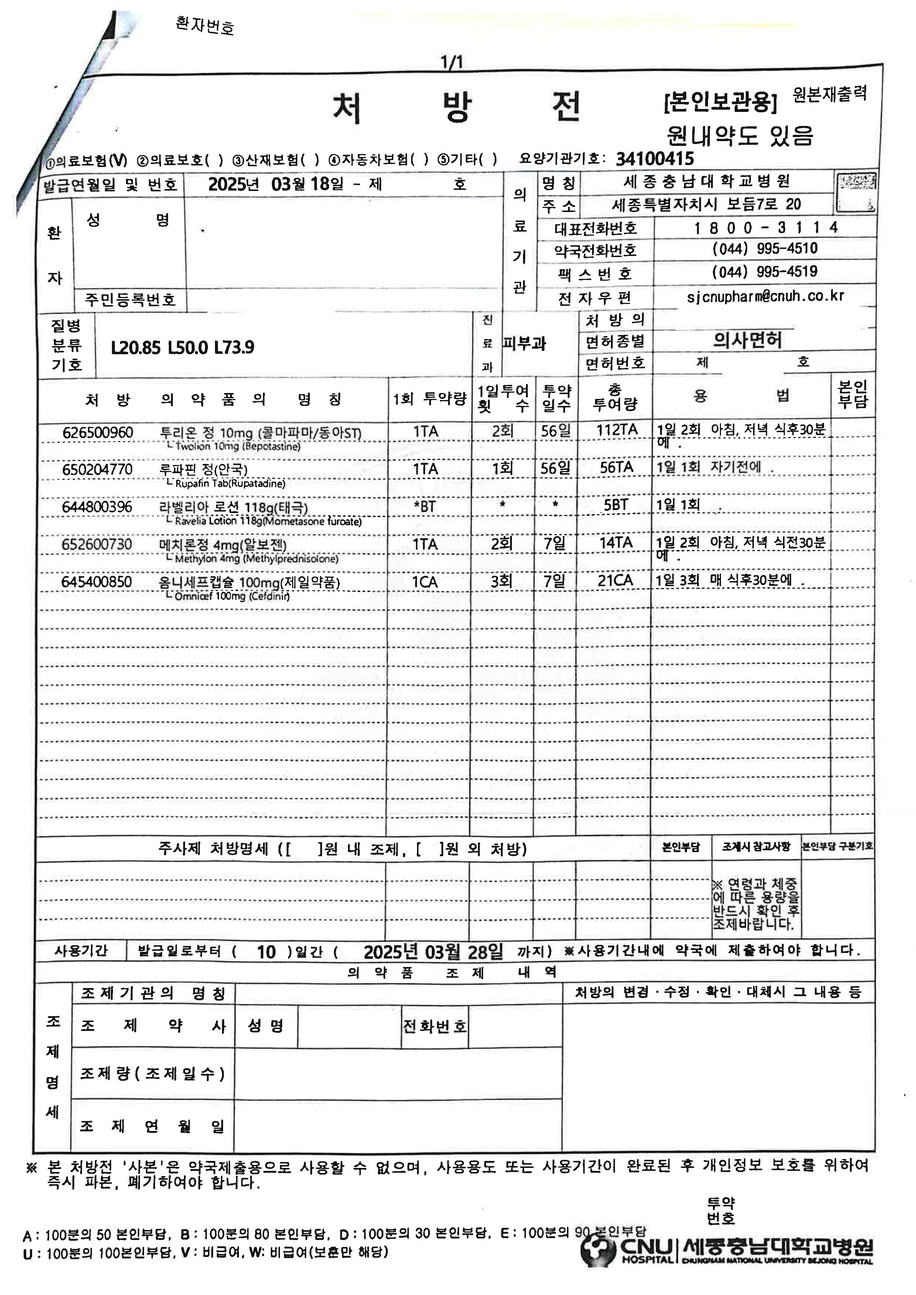row: (35, 961, 560, 1154), (32, 69, 882, 172), (35, 837, 874, 939), (33, 174, 502, 311), (561, 972, 875, 1147), (504, 171, 875, 311), (30, 377, 875, 419), (30, 418, 875, 457), (30, 456, 876, 494), (30, 494, 876, 532), (31, 568, 875, 606), (31, 533, 875, 568), (31, 313, 471, 378), (579, 309, 874, 374), (35, 941, 875, 959), (473, 311, 577, 377)
